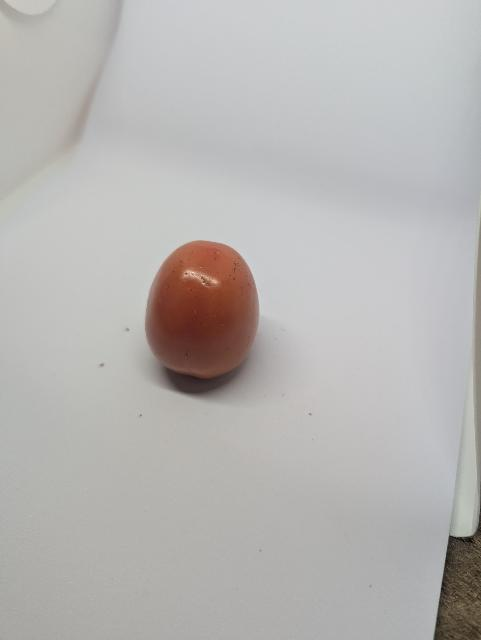red: (143, 237, 262, 382)
